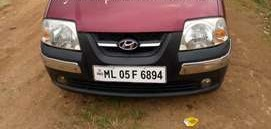ML05F6894: (93, 65, 165, 82)
